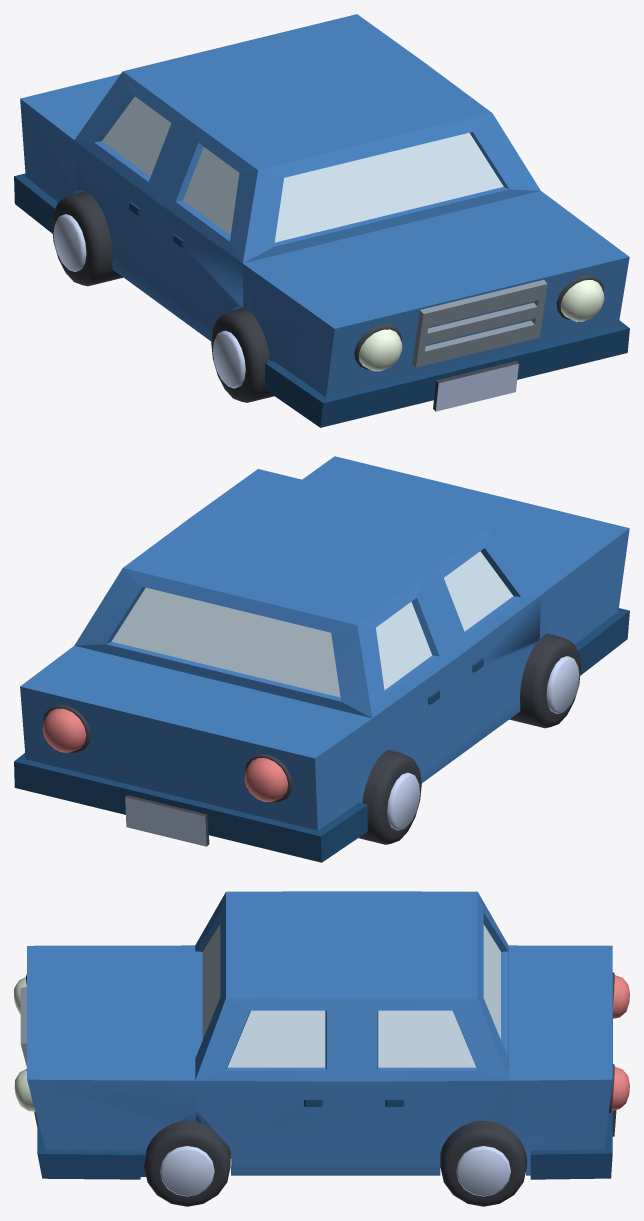
The model's file is Low car.fbx.
3 views of the same model, one above another, from view 1: azimuth 30°, elevation 25°; view 2: azimuth 150°, elevation 25°; view 3: azimuth 270°, elevation 25° (orthographic). The views are drawn at different scales.
Parts seen in each view (by area): view 1: car, plate, Wheels, Headlights; view 2: car, Wheels, tailLights, plate; view 3: car, Wheels, tailLights, Headlights, plate.
Part boxes in pixels (x1,y1,x2,y2): car: (14, 14, 629, 427); plate: (412, 279, 547, 411); Wheels: (52, 191, 274, 402); Headlights: (354, 275, 604, 371); car: (14, 456, 629, 862); Wheels: (358, 633, 580, 844); tailLights: (42, 705, 292, 802); plate: (125, 795, 209, 846); car: (27, 891, 612, 1179); Wheels: (144, 1120, 526, 1206); tailLights: (608, 972, 629, 1113); Headlights: (14, 974, 35, 1111); plate: (20, 986, 616, 1136).
Bounding box in the file's own units: 235 × 135 × 397.
